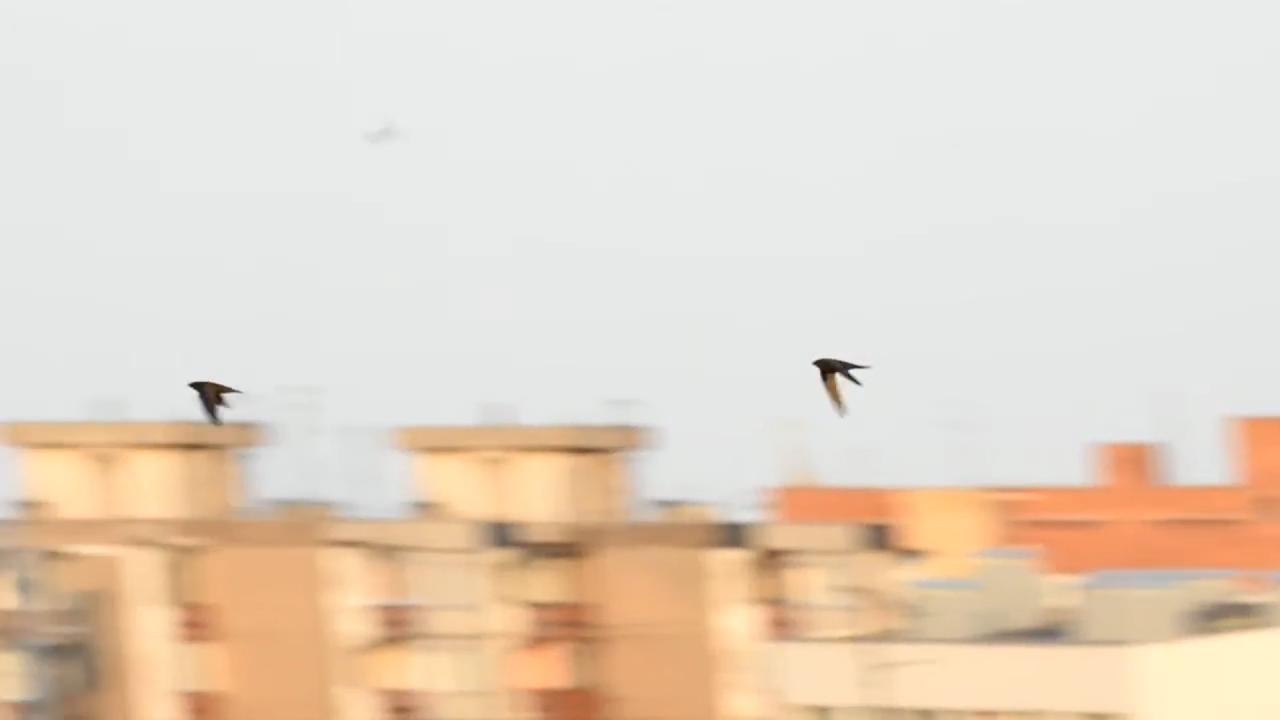Bird: (801, 343, 880, 425), (171, 363, 252, 431)
